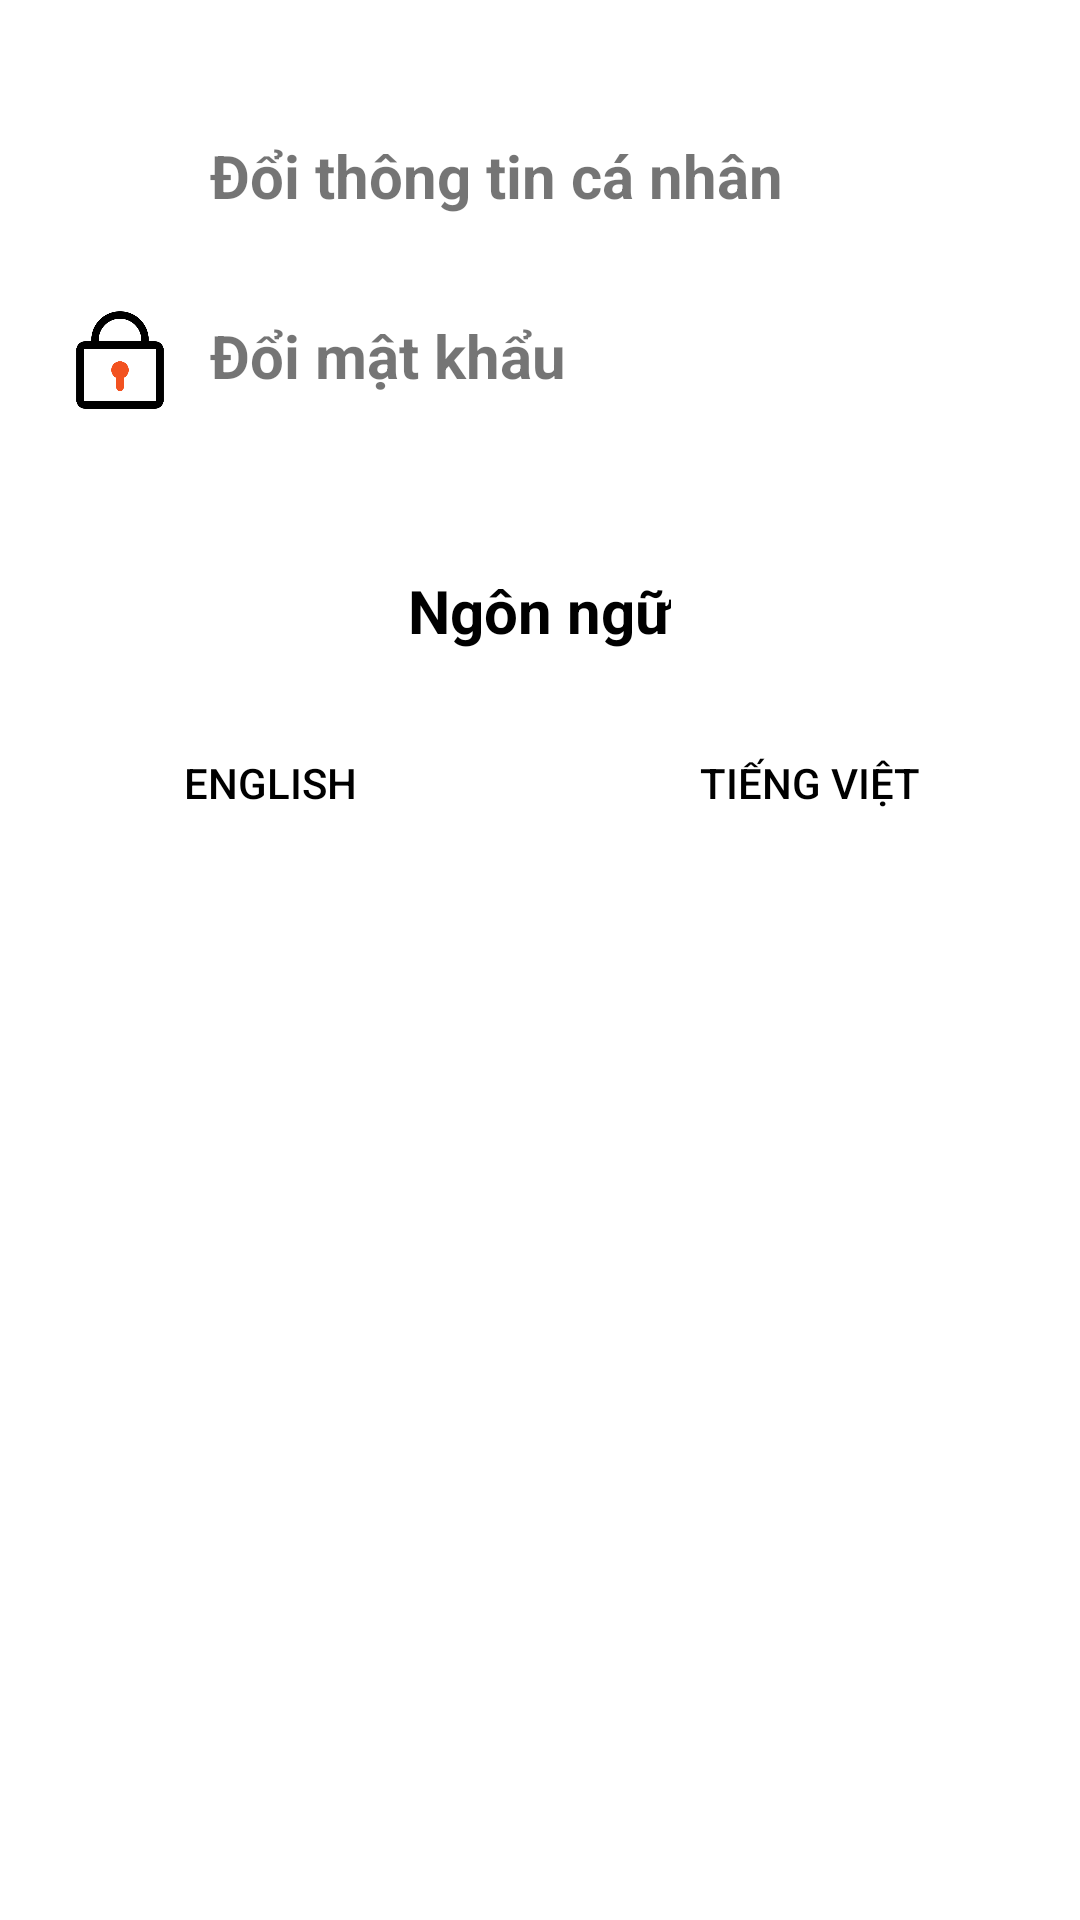

Icons on this 1080w x 1920h Android screen, each with the point to tap as point (x, y):
lock: point (120, 360)
